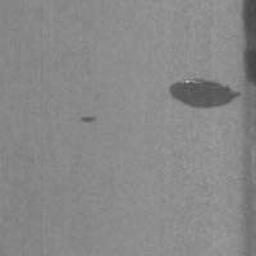Oil spot: (168, 70, 242, 110), (239, 0, 256, 87), (79, 114, 99, 124)
